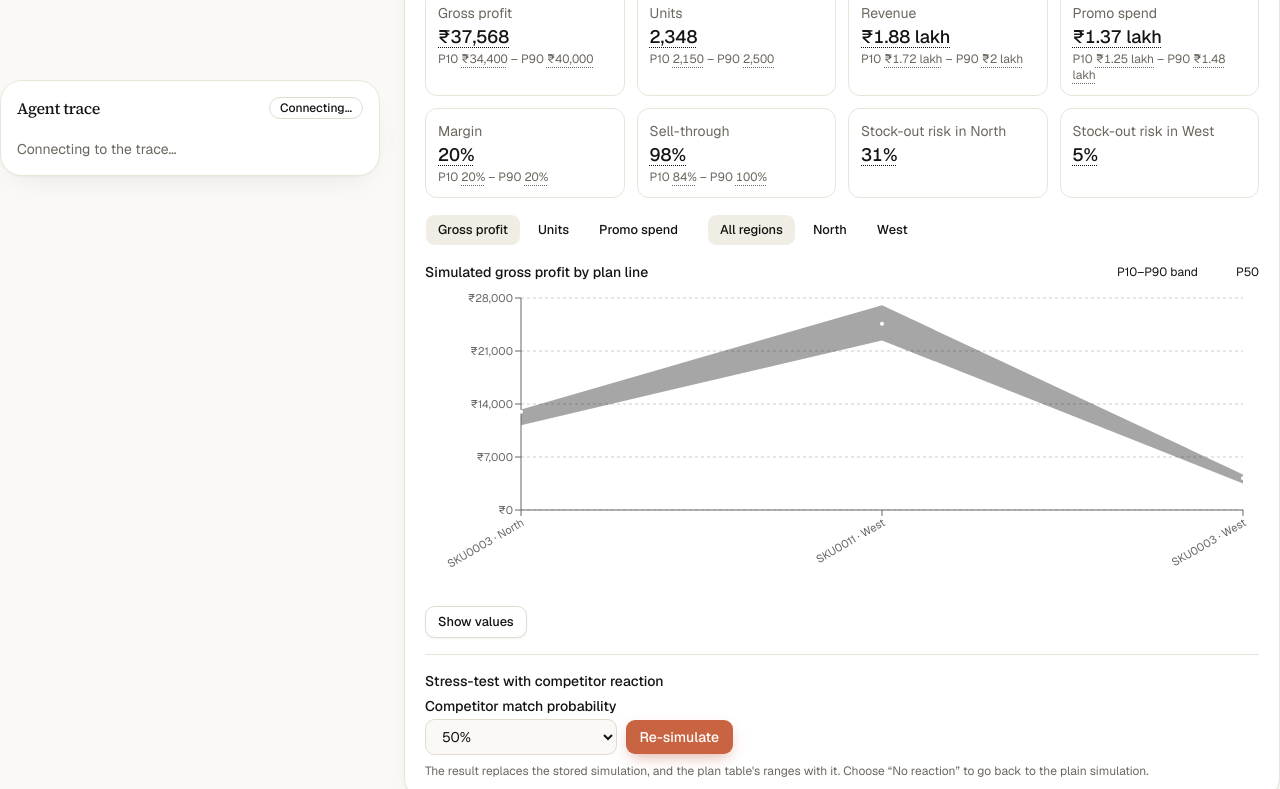
Test: SessionView › says why a re-simulation conflicted and reloads the session
(page scrolled)
Click the button "Re-simulate" at (679, 737), box 624,719 -> 734,755
(page scrolled)
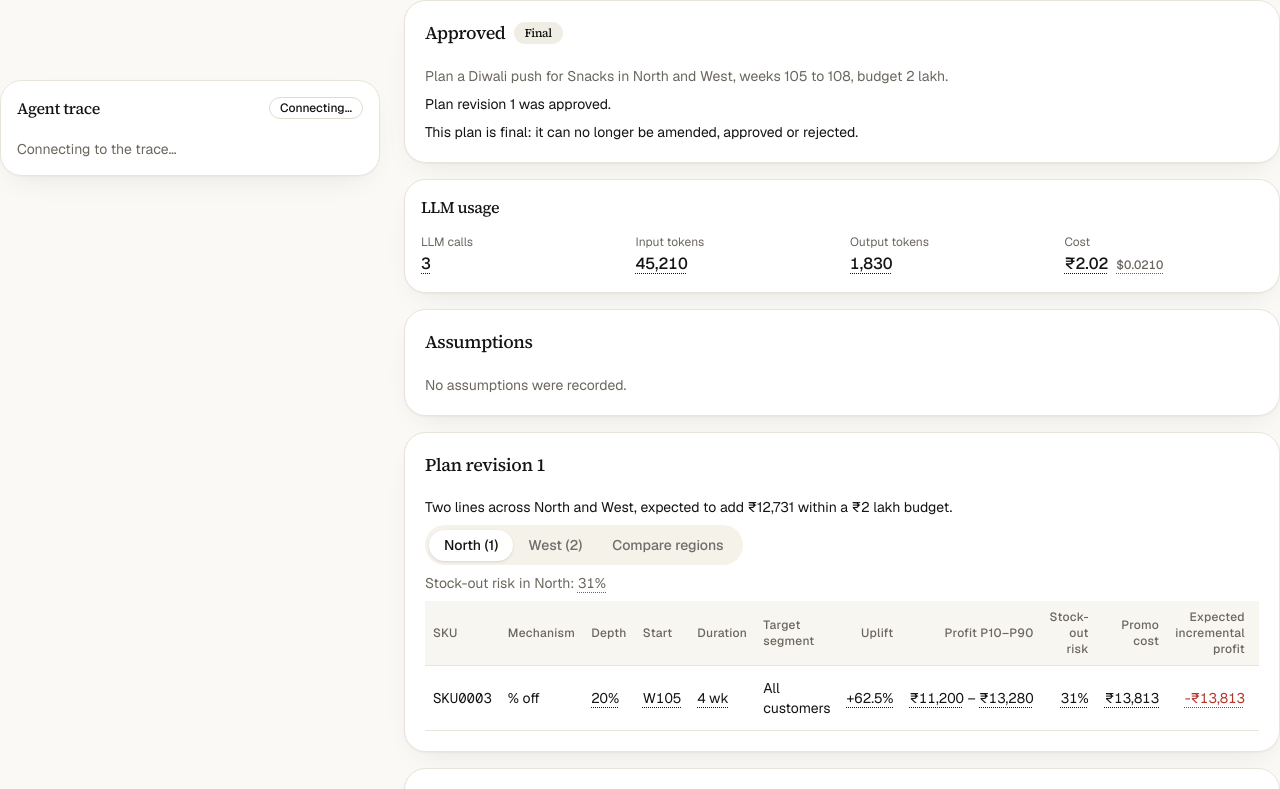
Check: the icon "Final" is shown, box 514,22 -> 563,44
Check: the button "Re-simulate" is gone
